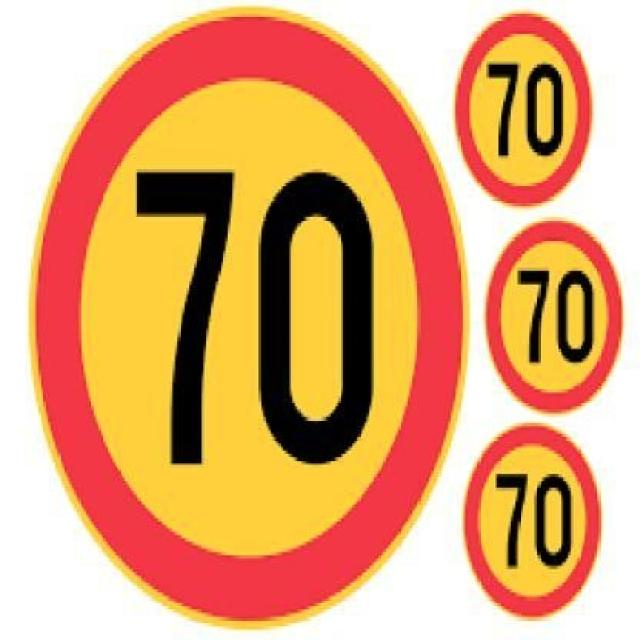forb_speed_over_70: (42, 15, 465, 617), (469, 427, 603, 618), (461, 17, 593, 205), (487, 229, 621, 409)
